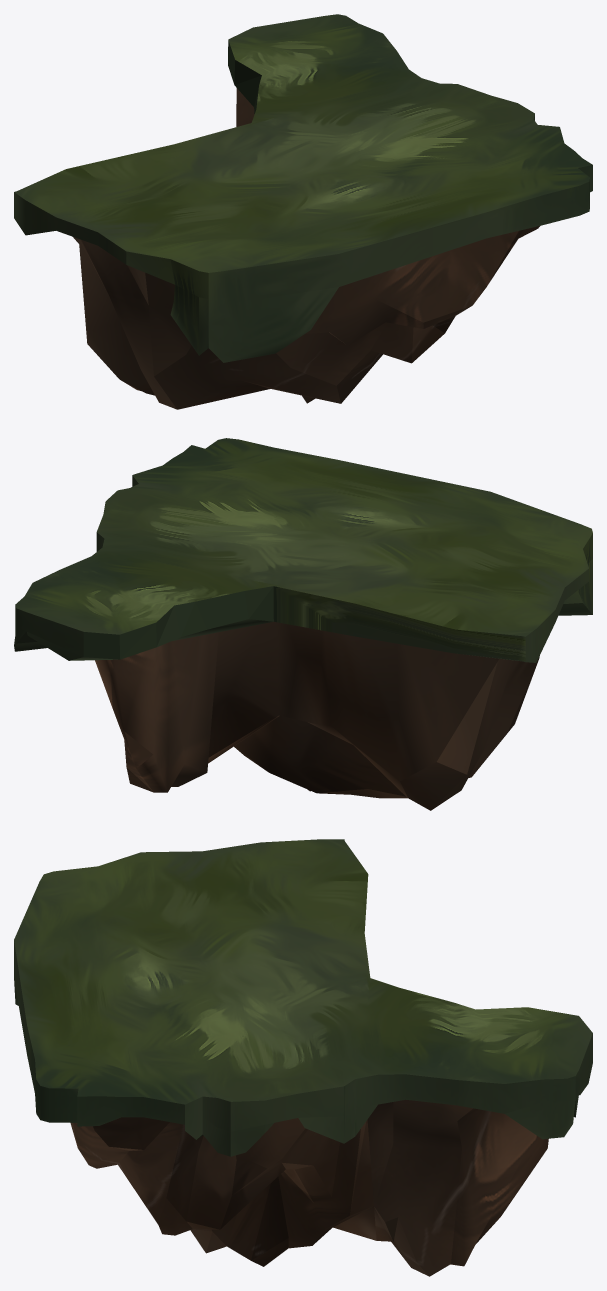
Rendered from wyspa_mala_L_2.obj.
The picture shows the model from 3 angles, top to bottom: view 1: azimuth 30°, elevation 25°; view 2: azimuth 150°, elevation 25°; view 3: azimuth 270°, elevation 25°; orthographic projection. The views are drawn at different scales.
Parts seen in each view (by area): view 1: Landscape.003; view 2: Landscape.003; view 3: Landscape.003.
Boxes of the visible parts, bbox=[...] form: Landscape.003: bbox=[14, 14, 592, 409]; Landscape.003: bbox=[14, 438, 592, 810]; Landscape.003: bbox=[14, 839, 592, 1276].
Bounding box in the file's own units: 55.17 × 27.53 × 50.86.
Materials: 2 (2 with a texture image).
